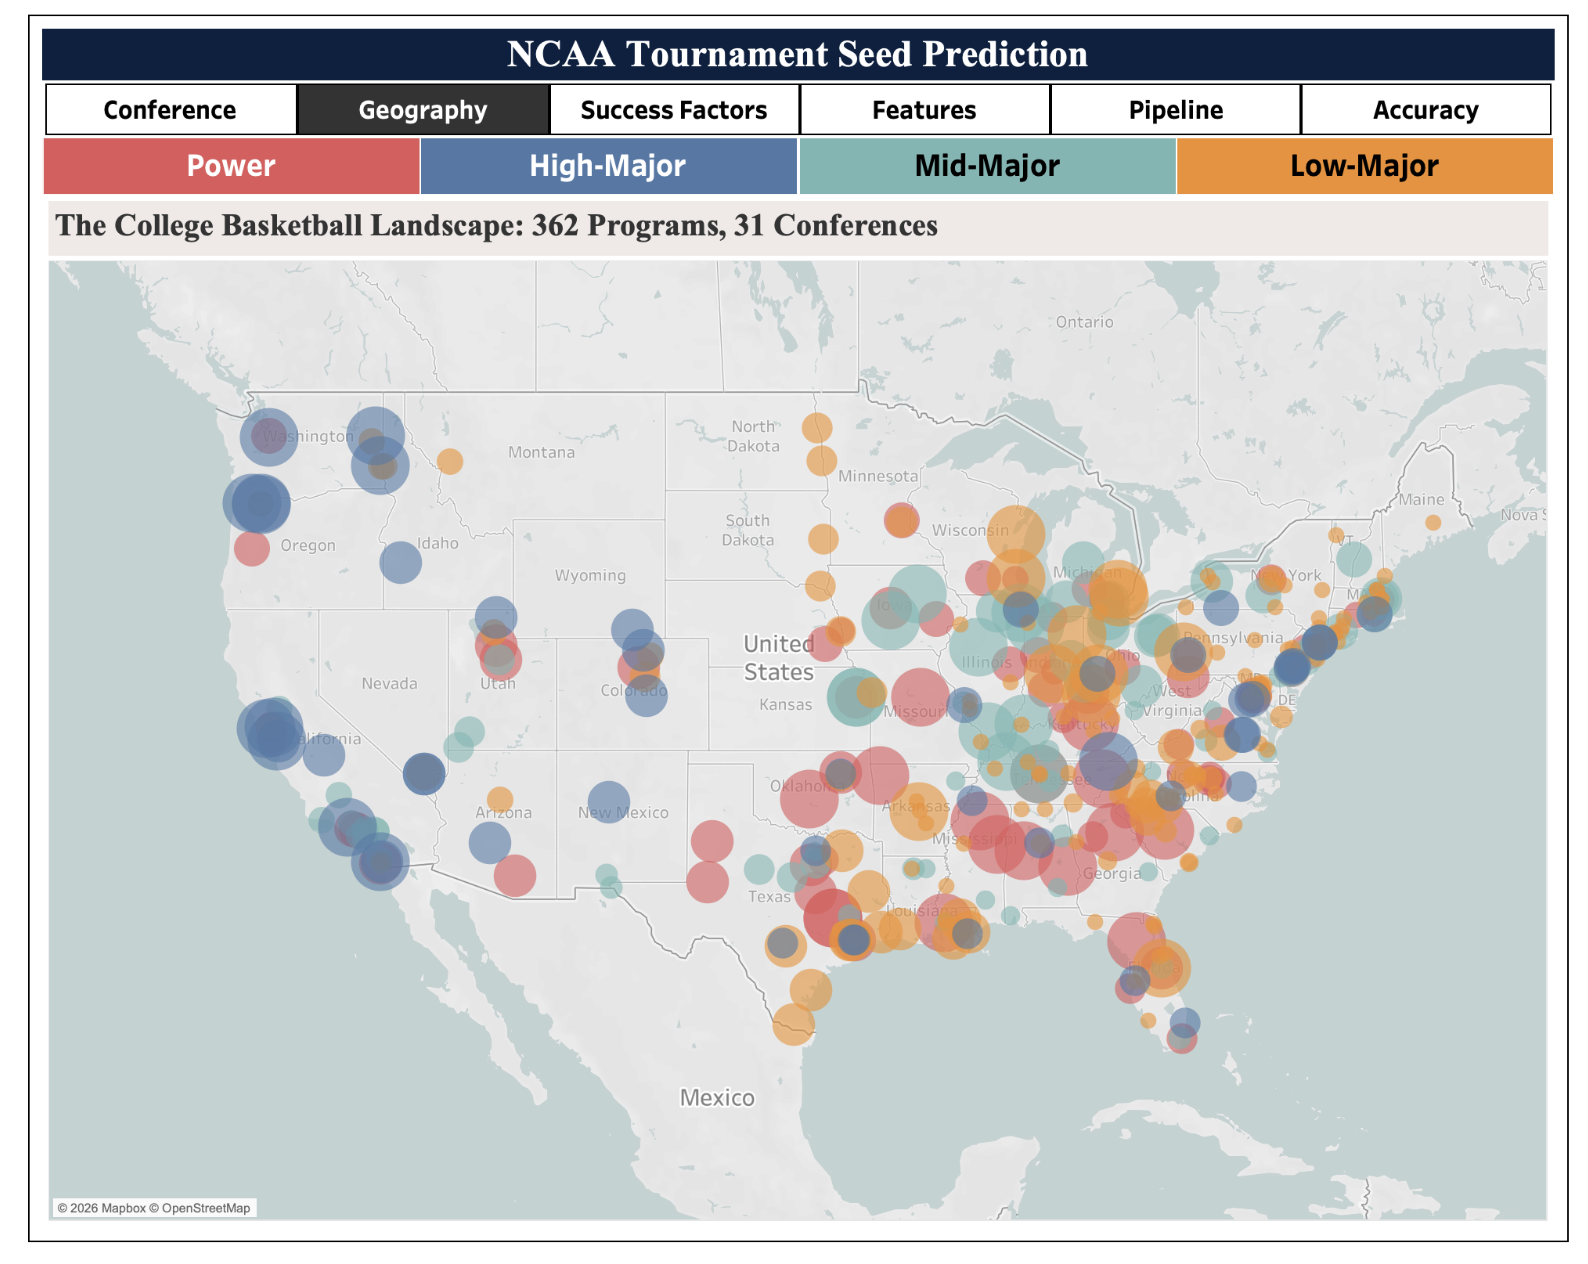

This screenshot's page, from the dashboard's own definition file:
{"tool":"tableau","page":{"name":"Geography Dashboard","canvas":[1000,800],"ordinal":4},"visuals":[{"type":"text","box":[17,17,966,33]},{"type":"dashboard-object","box":[19,52,161,33]},{"type":"dashboard-object","box":[180,52,161,33]},{"type":"dashboard-object","box":[341,52,160,33]},{"type":"dashboard-object","box":[501,52,160,33]},{"type":"dashboard-object","box":[661,52,160,33]},{"type":"dashboard-object","box":[821,52,160,33]},{"type":"worksheet","title":"button 2","mark":"Automatic","rows":["Calculation_6074307726409729"],"cols":["Conf_Tier_4"],"box":[17,87,966,36]},{"type":"worksheet","title":"Geography","mark":"Automatic","rows":["Latitude"],"cols":["Longitude"],"box":[17,123,966,660]}]}

Visuals, with their boxes in screenshot pixels (x1, y1, x2, y2), scaled from the page's 1000x800 canvas onto the 1588x1264 screenshot:
text: left=27, top=27, right=1561, bottom=79
dashboard-object: left=30, top=82, right=286, bottom=134
dashboard-object: left=286, top=82, right=542, bottom=134
dashboard-object: left=542, top=82, right=796, bottom=134
dashboard-object: left=796, top=82, right=1050, bottom=134
dashboard-object: left=1050, top=82, right=1304, bottom=134
dashboard-object: left=1304, top=82, right=1558, bottom=134
"button 2" worksheet: left=27, top=137, right=1561, bottom=194
"Geography" worksheet: left=27, top=194, right=1561, bottom=1237
